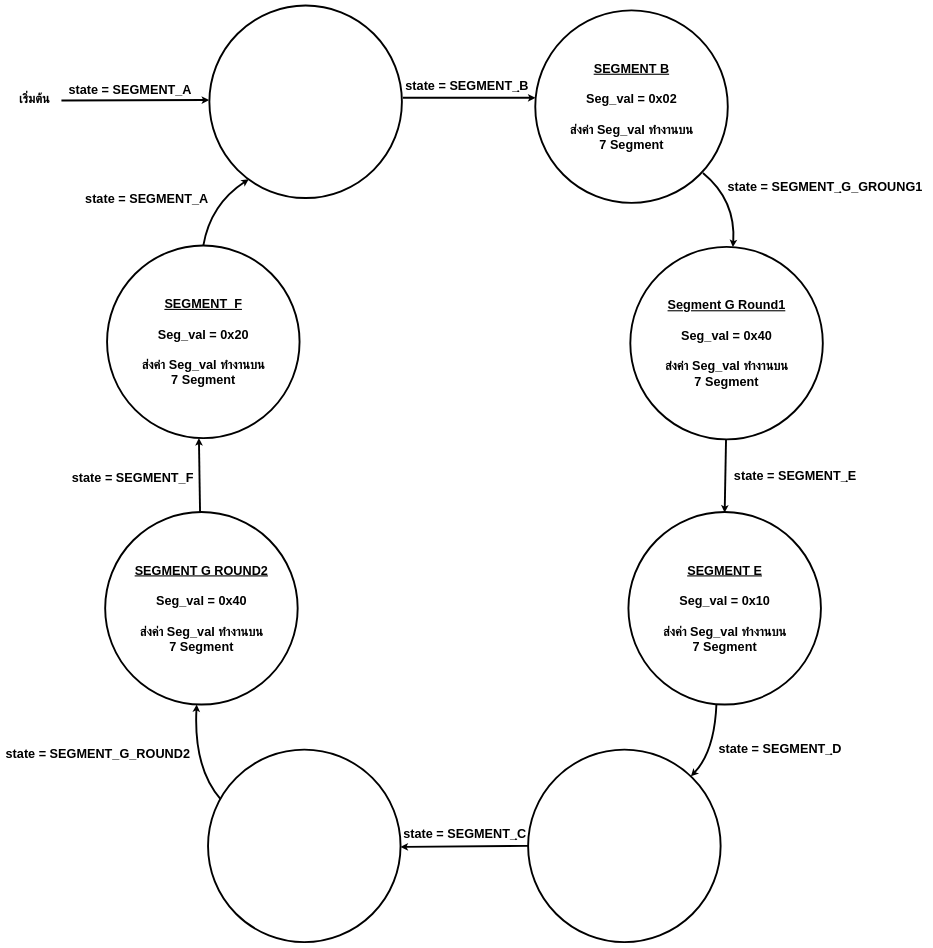
Image size: 933x948. Some labels were removed from this diagram. Each missing label, with the centre of its shape:
SEGMENT A Seg_val = 0x01 ส่งค่า Seg_val ทำงานบน 7 Segment: point 305,101
SEGMENT C Seg_val = 0x04 ส่งค่า Seg_val ทำงานบน 7 Segment: point 304,846
SEGMENT D Seg_val = 0x08 ส่งค่า Seg_val ทำงานบน 7 Segment: point 624,846
